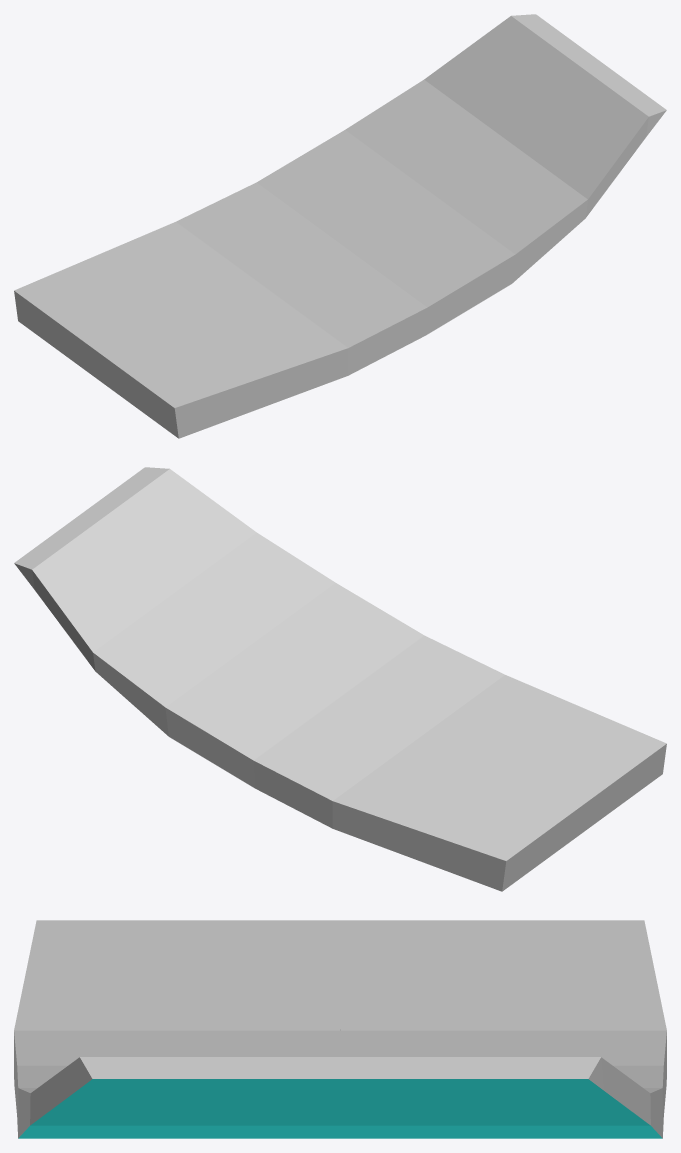
Rendered from VS Upper Rear Door anim.fbx.
The picture shows the model from 3 angles, top to bottom: view 1: azimuth 30°, elevation 25°; view 2: azimuth 150°, elevation 25°; view 3: azimuth 270°, elevation 25°; orthographic projection. The views are drawn at different scales.
Parts seen in each view (by area): view 1: Upper Rear Door; view 2: Upper Rear Door; view 3: Upper Rear Door.
Boxes of the visible parts, bbox=[...] form: Upper Rear Door: bbox=[14, 14, 666, 438]; Upper Rear Door: bbox=[14, 467, 666, 891]; Upper Rear Door: bbox=[14, 920, 666, 1138].
Size of the model in its own units: 228 by 84.3 by 134.
